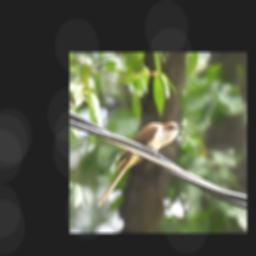Cuckoo: (96, 120, 186, 208)
